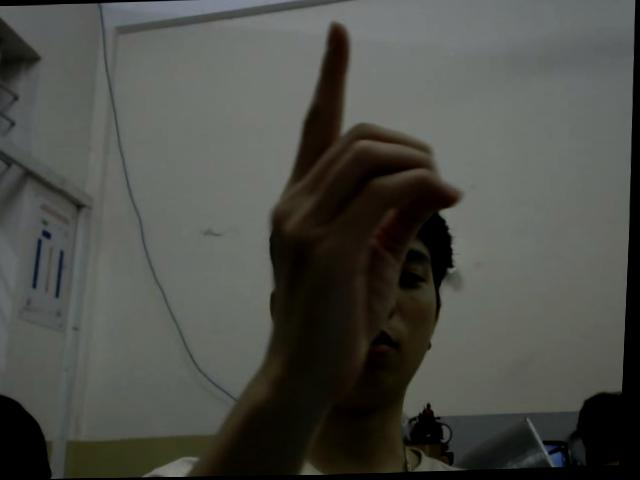D: (257, 14, 473, 401)
